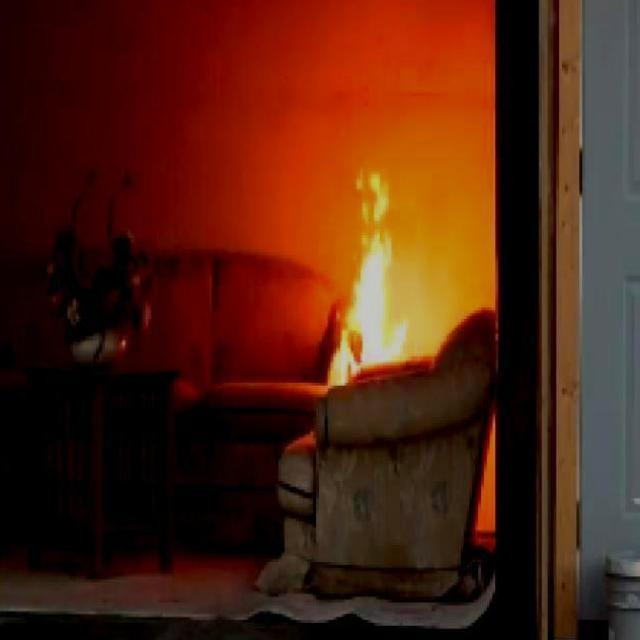smoke: (329, 170, 410, 389)
